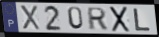0: (66, 6, 84, 31)
2: (44, 4, 63, 32)
L: (133, 8, 152, 32)
R: (87, 7, 109, 32)
X: (19, 5, 42, 31), (109, 6, 131, 33)
